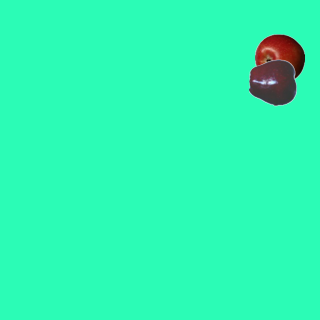Apple Braeburn: (254, 33, 304, 83)
Apple Red Delicious: (248, 57, 298, 107)
